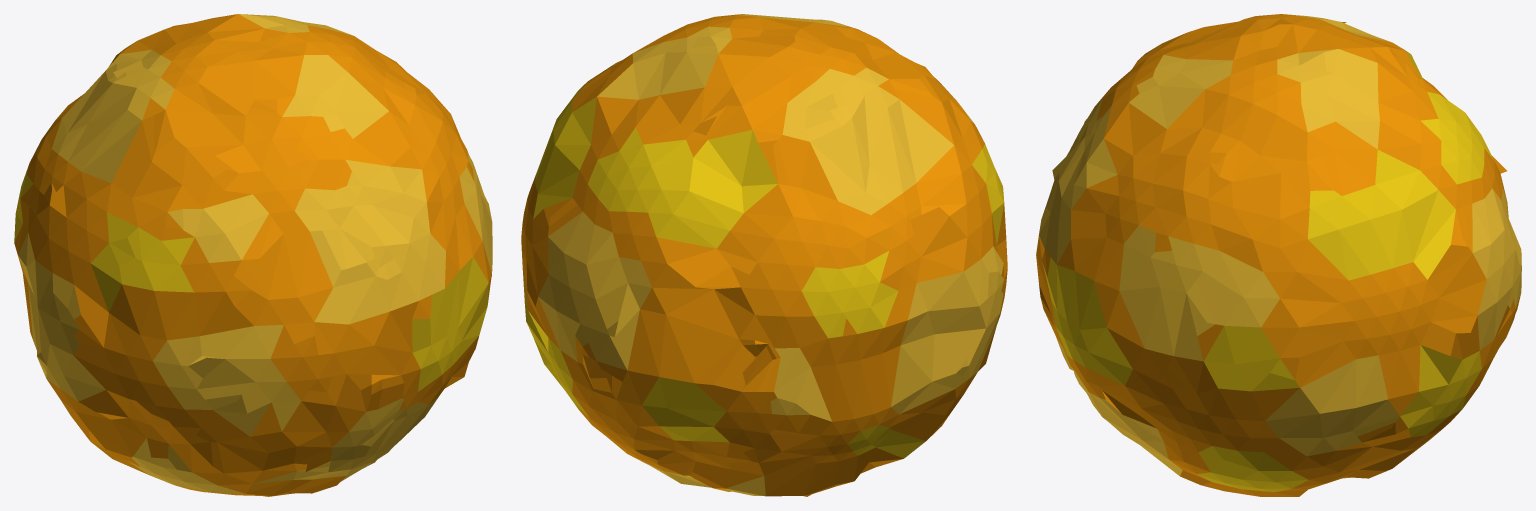
The model's file is sun.glb.
3 views of the same model, side by side, from view 1: azimuth 30°, elevation 25°; view 2: azimuth 150°, elevation 25°; view 3: azimuth 270°, elevation 25° (orthographic).
Parts seen in each view (by area): view 1: Icosphere; view 2: Icosphere; view 3: Icosphere.
Boxes of the visible parts, box(x1,y1,x2,y2) form: Icosphere: box(14, 14, 492, 496); Icosphere: box(521, 14, 1007, 496); Icosphere: box(1036, 14, 1521, 496).
Size of the model in its own units: 2.75 by 2.69 by 2.74.
